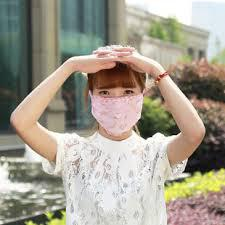OK: (91, 85, 140, 134)
